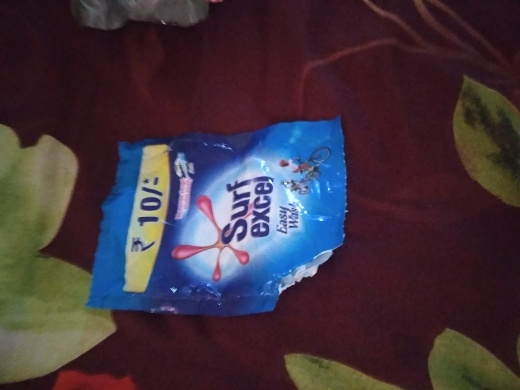surf: (97, 123, 373, 338)
